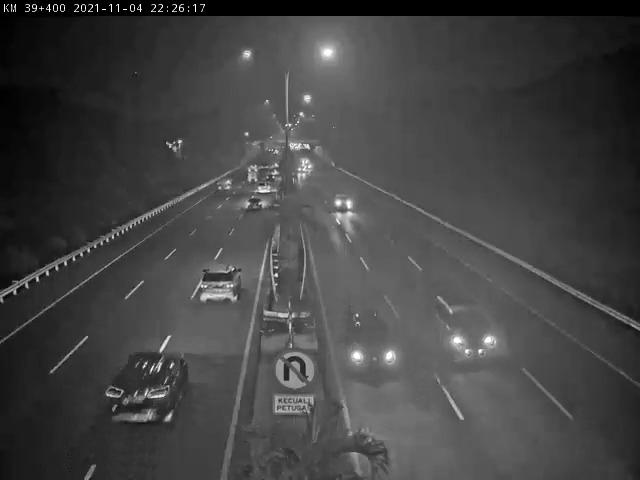car: (445, 301, 517, 381), (111, 347, 181, 425), (345, 311, 401, 385), (205, 257, 241, 315), (332, 187, 358, 217)
